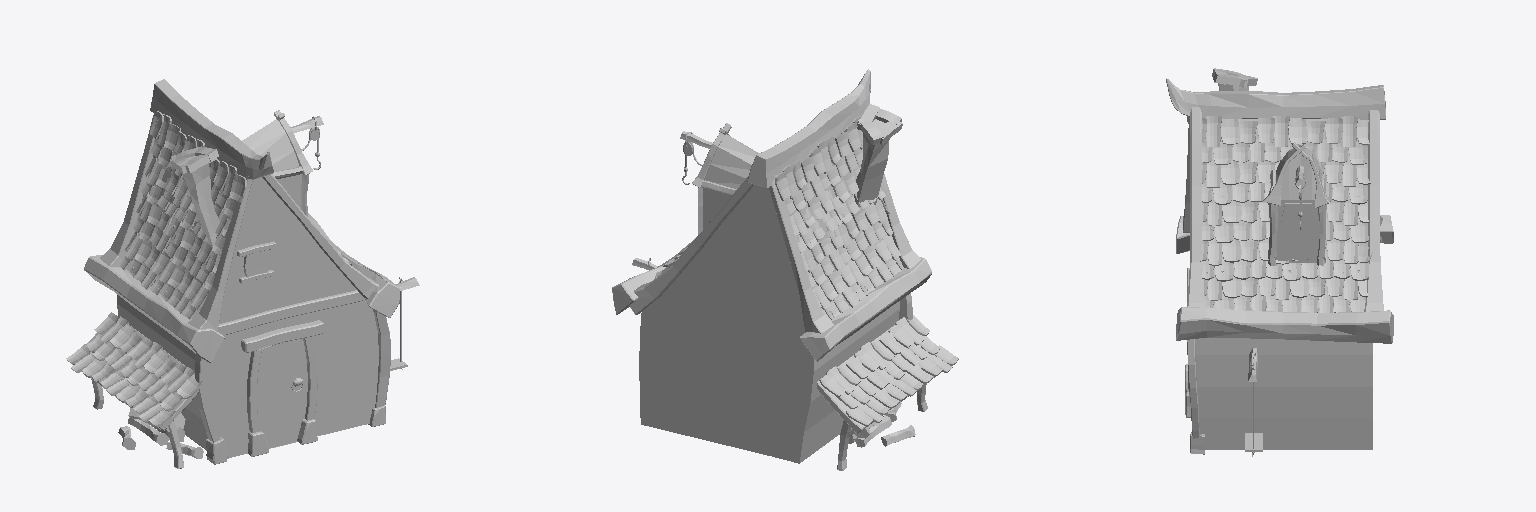
The model's file is Casa nonna3.obj.
The picture shows the model from 3 angles: view 1: azimuth 30°, elevation 25°; view 2: azimuth 150°, elevation 25°; view 3: azimuth 270°, elevation 25°; orthographic projection.
Parts seen in each view (by area): view 1: Casa_nonna3_Casa_nonna3_lambert3SG, Casa_nonna3_Casa_nonna3_initialShadingGroup; view 2: Casa_nonna3_Casa_nonna3_lambert3SG, Casa_nonna3_Casa_nonna3_initialShadingGroup; view 3: Casa_nonna3_Casa_nonna3_lambert3SG, Casa_nonna3_Casa_nonna3_initialShadingGroup, Casa_nonna3_Casa_nonna3_None.
Part boxes in pixels (bbox=[...]): Casa_nonna3_Casa_nonna3_lambert3SG: bbox=[66, 79, 399, 468]; Casa_nonna3_Casa_nonna3_initialShadingGroup: bbox=[242, 116, 320, 208]; Casa_nonna3_Casa_nonna3_lambert3SG: bbox=[612, 69, 958, 470]; Casa_nonna3_Casa_nonna3_initialShadingGroup: bbox=[682, 132, 758, 229]; Casa_nonna3_Casa_nonna3_lambert3SG: bbox=[1166, 68, 1393, 454]; Casa_nonna3_Casa_nonna3_initialShadingGroup: bbox=[1276, 145, 1321, 262]; Casa_nonna3_Casa_nonna3_None: bbox=[1205, 119, 1358, 451].
Size of the model in its own units: 39.03 by 39.38 by 26.13.